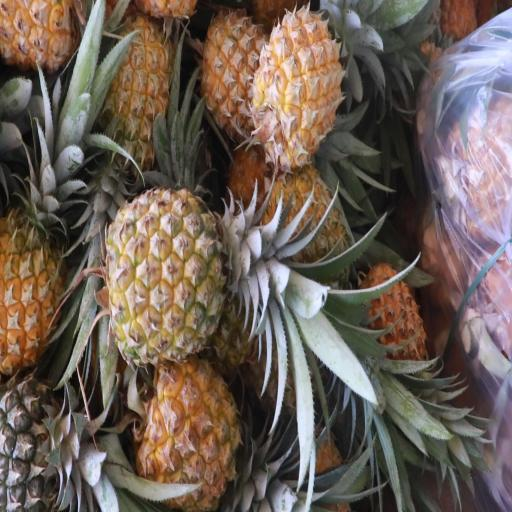------------------------------: (94, 184, 285, 354)
Pineapple - v8 v1: (117, 348, 278, 512), (0, 119, 73, 378), (244, 6, 357, 161), (95, 7, 174, 166), (196, 5, 260, 122)
